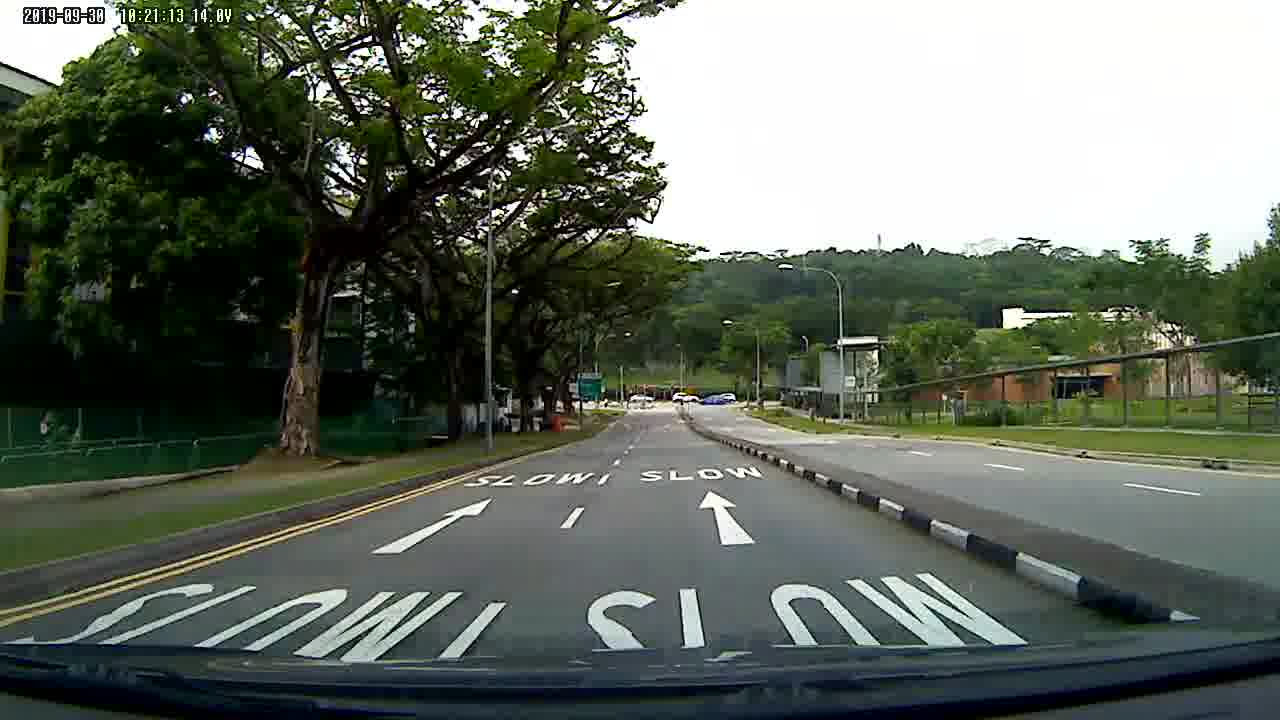car: (703, 390, 733, 405), (672, 390, 701, 404), (630, 392, 655, 405)
